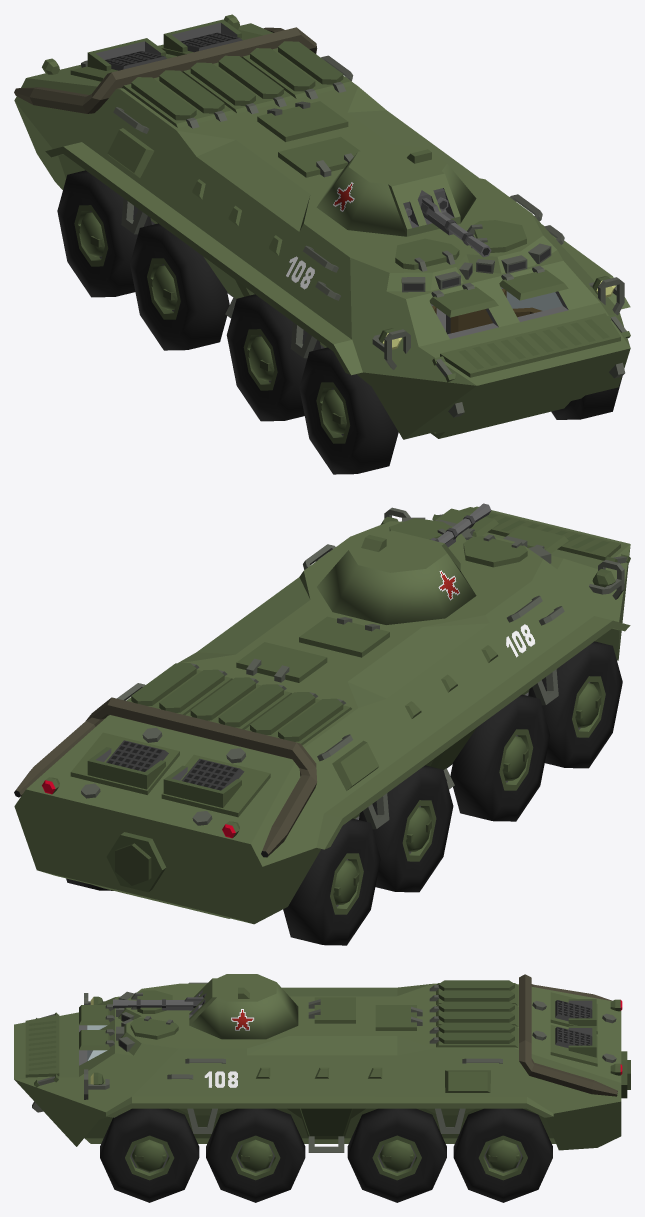
Rendered from slavaukraini.fbx.
3 renders of one model, top to bottom at view 1: azimuth 30°, elevation 25°; view 2: azimuth 150°, elevation 25°; view 3: azimuth 270°, elevation 25°, orthographic. The views are drawn at different scales.
Parts seen in each view (by area): view 1: Body, Turret, Wheel.006, Wheel.004, Wheel.007, Wheel.005, Turret_Gun, Wheel; view 2: Body, Turret, Wheel.005, Wheel.007, Wheel.004, Wheel.006, Turret_Gun; view 3: Body, Wheel.001, Wheel.003, Wheel.002, Wheel, Turret, Turret_Gun.
Part boxes in pixels (x1,y1,x2,y2): Body: (14,14,630,439); Turret: (316,144,476,236); Wheel.006: (130,223,229,350); Wheel.004: (299,347,398,474); Wheel.007: (57,170,151,297); Wheel.005: (226,294,321,421); Turret_Gun: (403,188,491,257); Wheel: (551,375,622,419); Body: (14,506,630,924); Turret: (317,530,476,624); Wheel.005: (450,694,550,821); Wheel.007: (283,818,380,945); Wheel.004: (528,641,622,768); Wheel.006: (359,765,453,892); Turret_Gun: (430,503,491,547); Body: (14,974,630,1152); Wheel.001: (206,1108,305,1202); Wheel.003: (453,1108,552,1202); Wheel.002: (347,1108,446,1202); Wheel: (100,1108,199,1202); Turret: (189,974,298,1039); Turret_Gun: (113,994,205,1010).
Size of the model in its own units: 400 by 327 by 1047.
